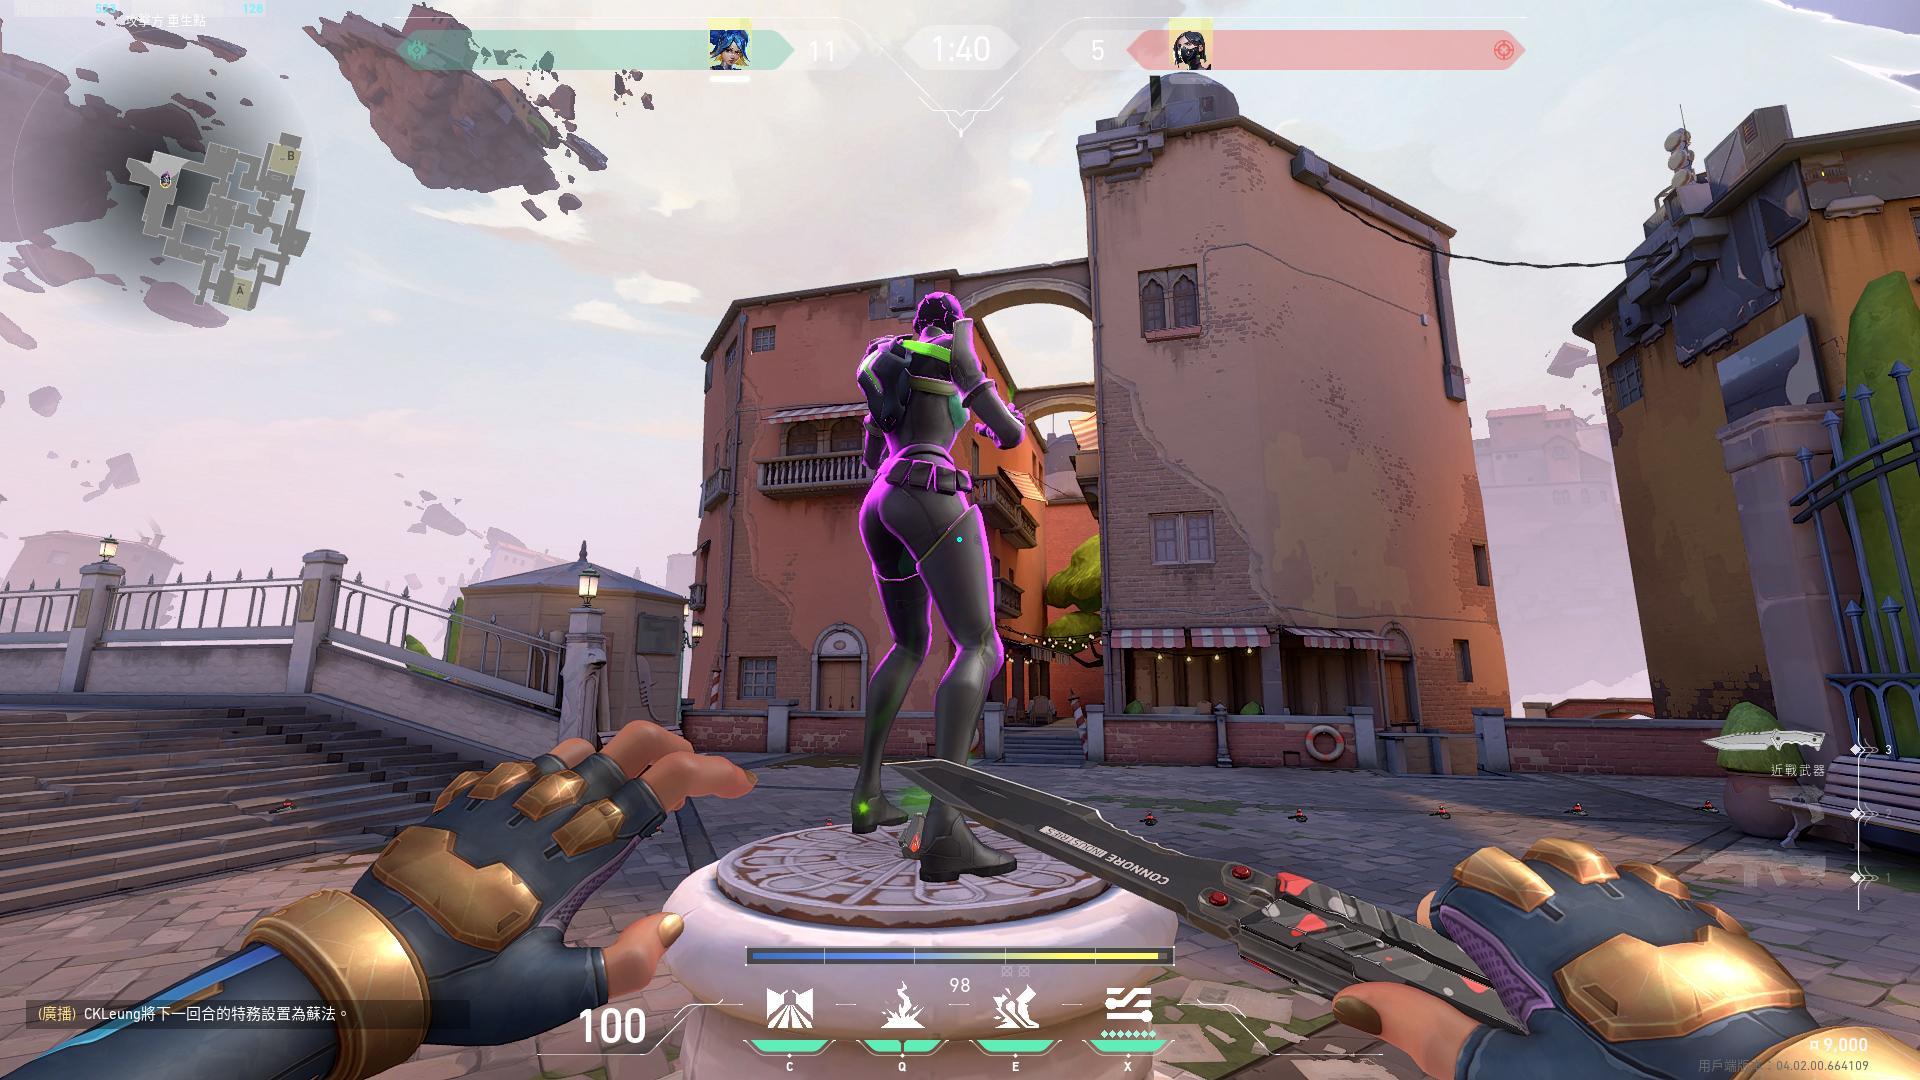enemyBody: (885, 356, 956, 483)
enemyHead: (920, 303, 956, 345)
